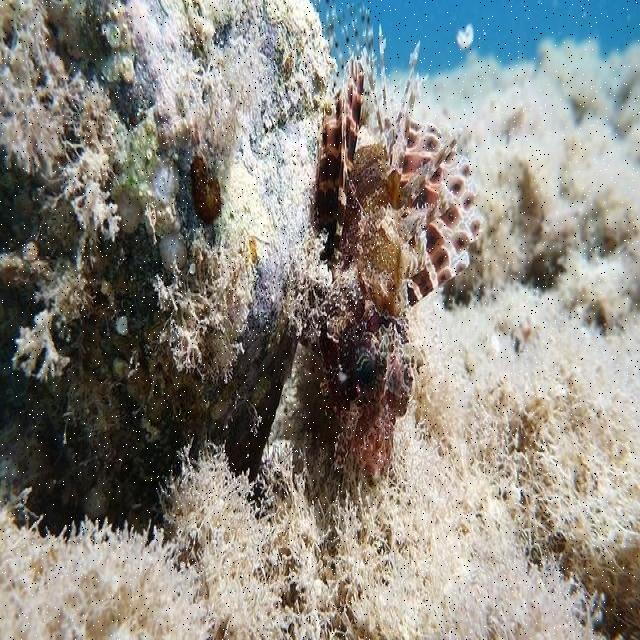aquatic plants: (0, 35, 639, 639)
fish: (309, 25, 486, 481)
sea-floor: (0, 0, 338, 544)
